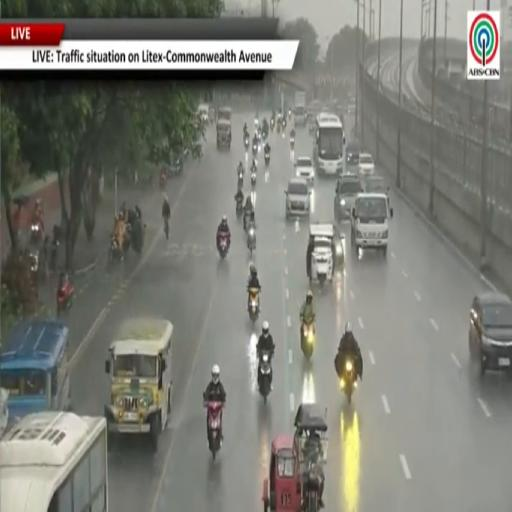bus: (0, 412, 108, 511), (313, 114, 344, 175)
car: (469, 292, 511, 375), (351, 194, 393, 255), (334, 174, 362, 221), (285, 178, 310, 218), (295, 156, 314, 184), (364, 175, 389, 194), (358, 153, 375, 178), (346, 141, 360, 165), (198, 104, 209, 124)
jeepney: (105, 317, 173, 451), (0, 319, 70, 422), (310, 223, 344, 284), (217, 120, 231, 149), (218, 107, 232, 123)
motorcycle: (205, 402, 223, 460), (340, 358, 357, 404), (258, 351, 272, 403), (301, 319, 315, 359), (57, 281, 73, 315), (50, 226, 61, 270), (248, 288, 259, 324), (109, 237, 123, 262), (168, 156, 183, 177), (50, 237, 59, 270), (30, 222, 42, 245), (219, 234, 229, 259), (248, 224, 255, 255), (30, 249, 38, 275), (243, 211, 251, 232), (236, 199, 242, 218), (159, 172, 166, 188), (164, 218, 169, 239), (238, 171, 243, 188), (251, 171, 256, 187), (257, 126, 262, 142), (252, 142, 257, 156), (270, 118, 275, 132), (282, 118, 287, 131), (245, 136, 249, 151), (265, 153, 269, 167), (277, 120, 281, 134), (290, 137, 294, 150), (288, 109, 291, 119)
tricycle: (263, 405, 327, 511)
truck: (294, 91, 306, 125)
